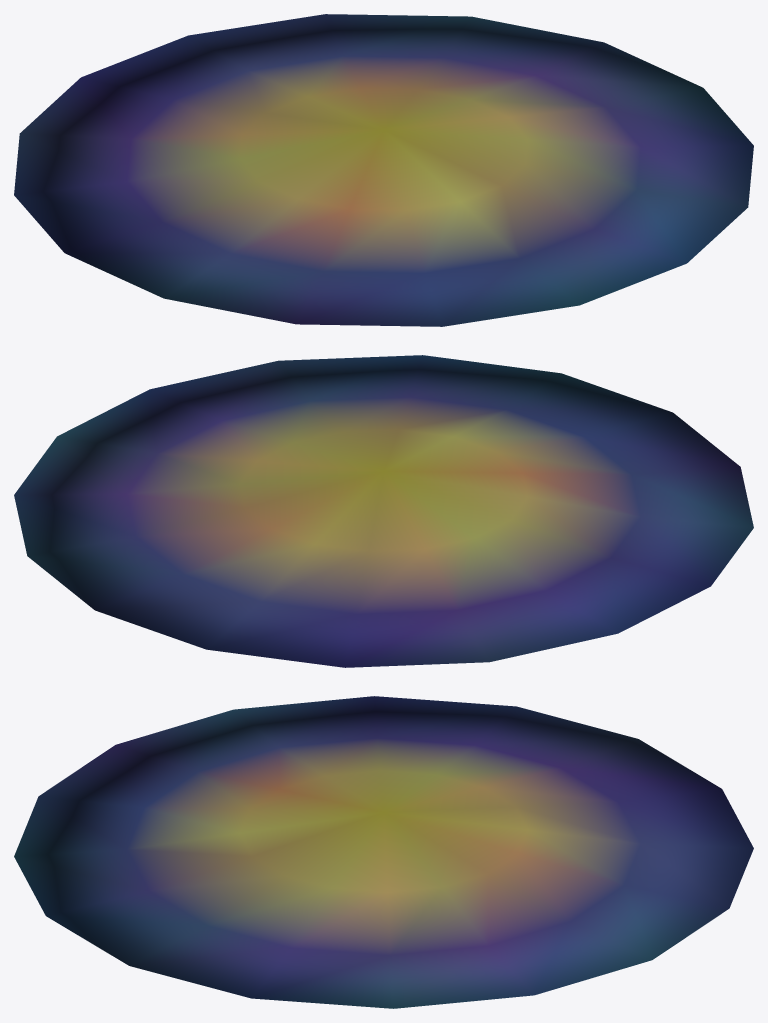
The model's file is space-galaxies-galaxy_v8.glb.
3 renders of one model, top to bottom at view 1: azimuth 30°, elevation 25°; view 2: azimuth 150°, elevation 25°; view 3: azimuth 270°, elevation 25°, orthographic.
Visible parts, largest first — view 1: Galaxy_v8; view 2: Galaxy_v8; view 3: Galaxy_v8.
Boxes of the visible parts, bbox=[...] form: Galaxy_v8: bbox=[14, 14, 753, 326]; Galaxy_v8: bbox=[14, 355, 753, 667]; Galaxy_v8: bbox=[14, 696, 753, 1008].
Bounding box in the file's own units: 0.5 × 0.0541 × 0.5.
